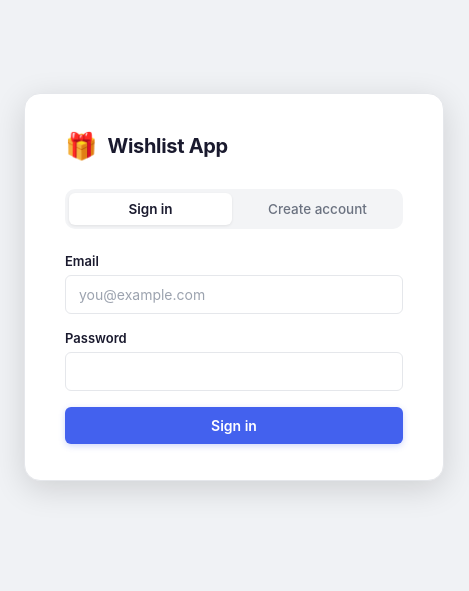
AuthPage layout › switches to register tab and shows Name and Confirm fields
Click the button "Create account" at coordinates (318, 209), box [236,193,399,225]
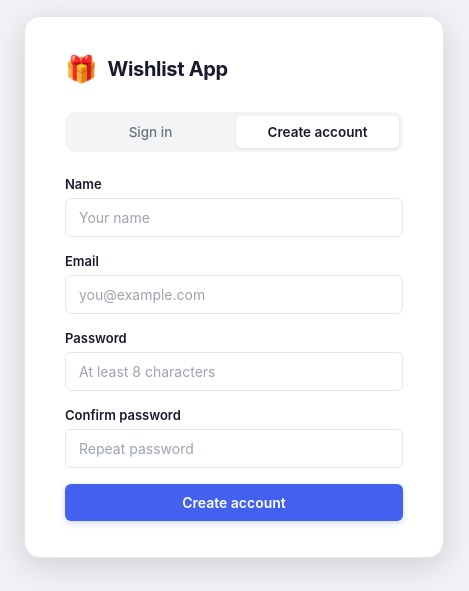
Now the field labelled "Name" is shown, box [65,198,403,237]
Now the password field labelled "Confirm password" is shown, box [65,429,403,468]
